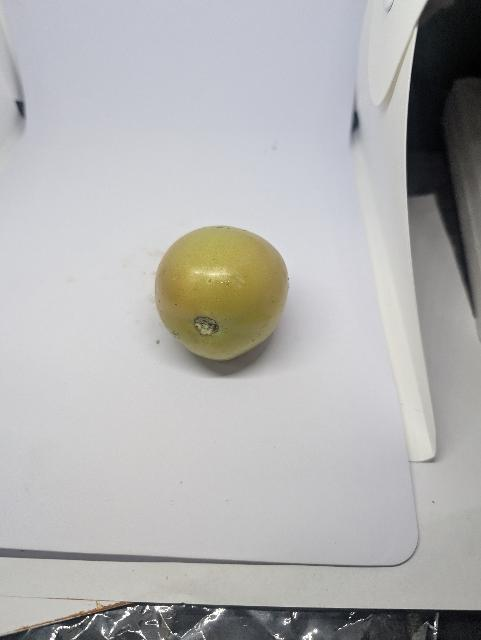breaker: (151, 217, 295, 364)
